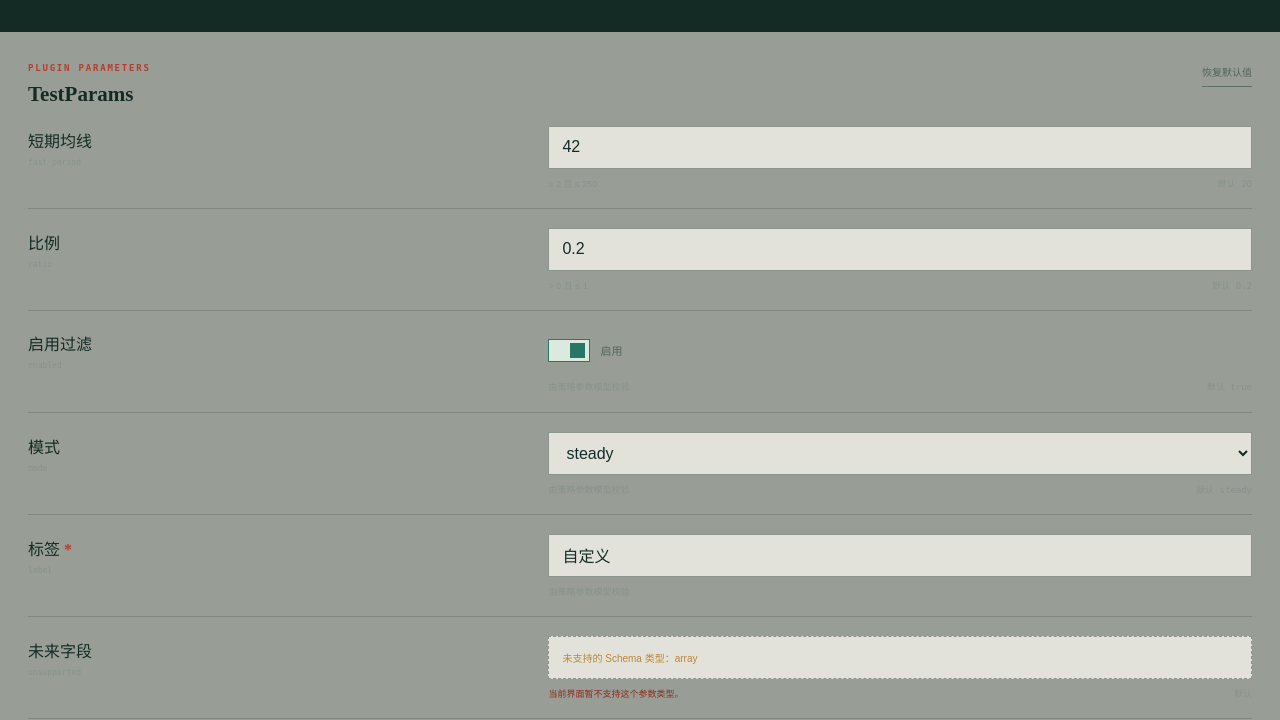
Test case: ParameterForm › restores plugin defaults
This screenshot has width=1280, height=720.
Expected: the number field labelled "短期均线" holds "42", [548,126,1252,168]
What coordinates should you click on to do the following:
click the button "恢复默认值"
I would click on:
 (1227, 72)
Its box is [1202,57,1252,87].
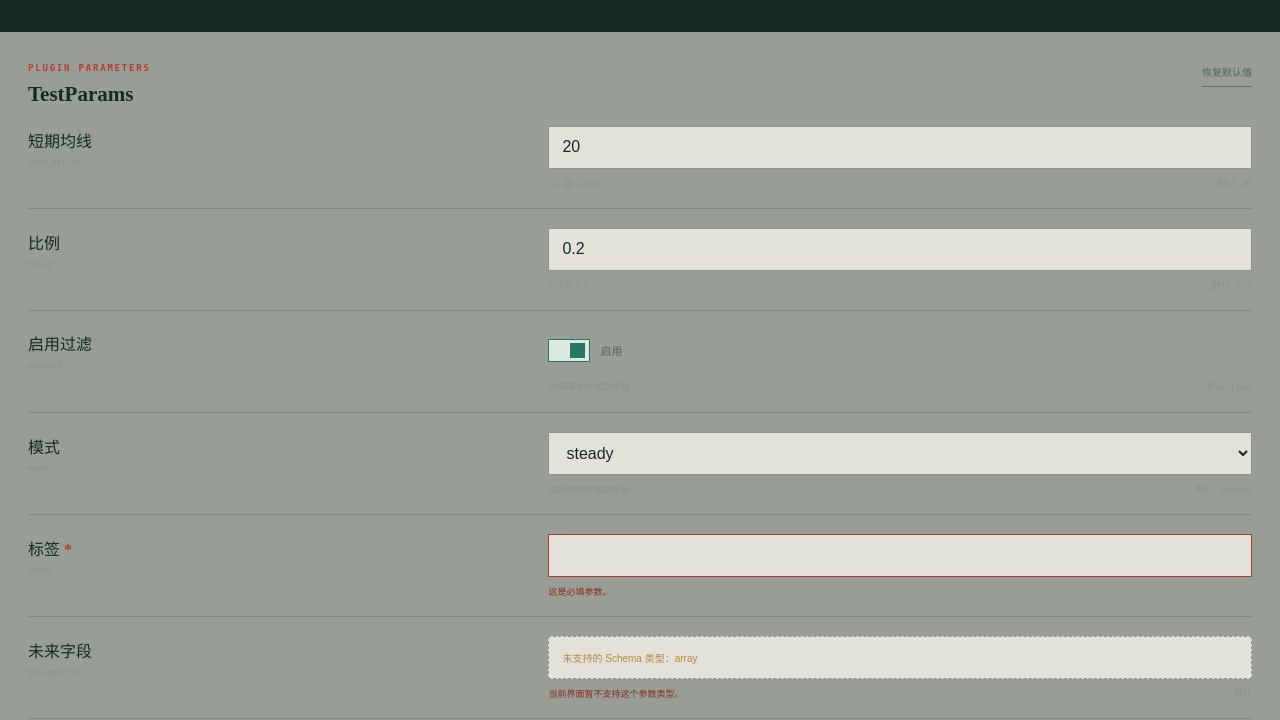
Result: the number field labelled "短期均线" holds "20" at [548,126,1252,168]
